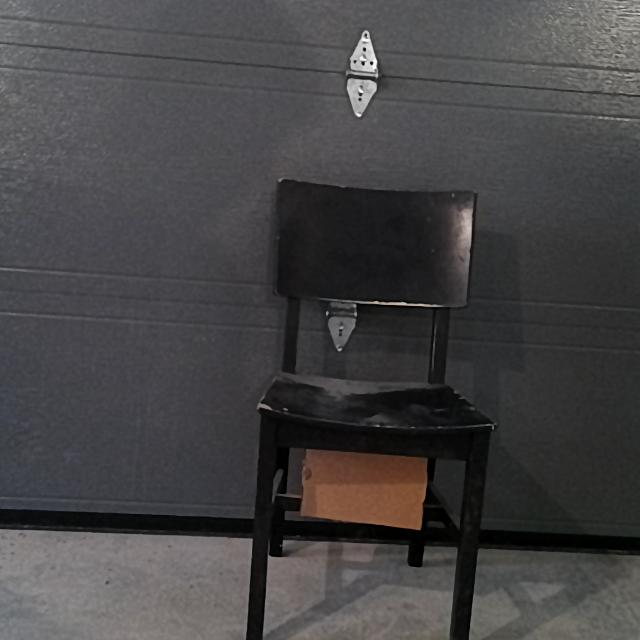box: (301, 452, 426, 522)
